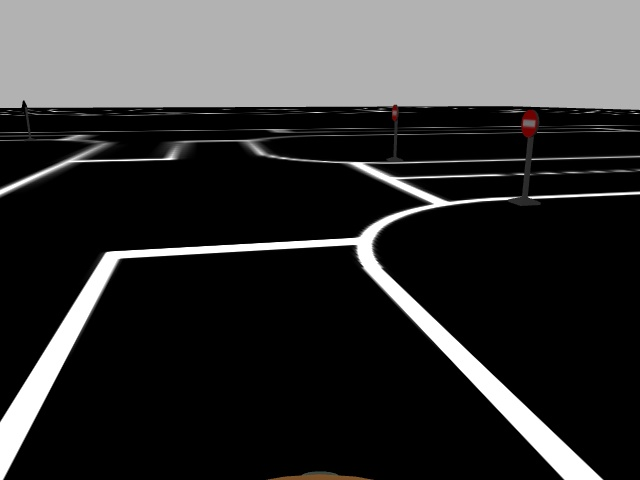prohibited: (521, 108, 538, 140)
